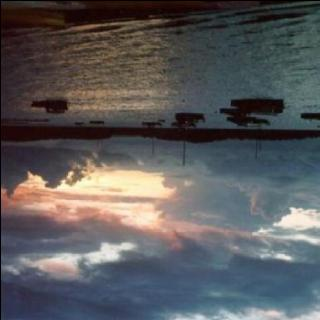Cumulonimbus: (0, 143, 320, 320)
